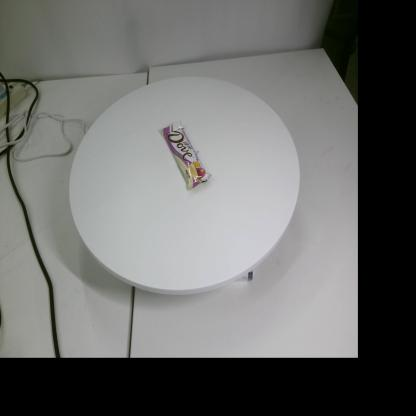Chocolate: (162, 121, 212, 190)
